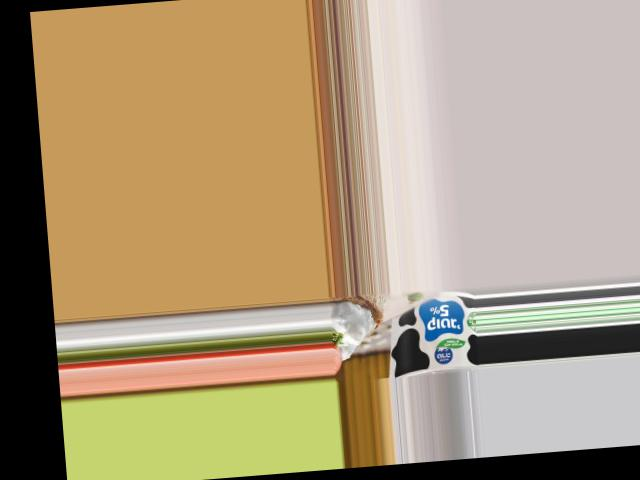cotage: (387, 291, 479, 377)
